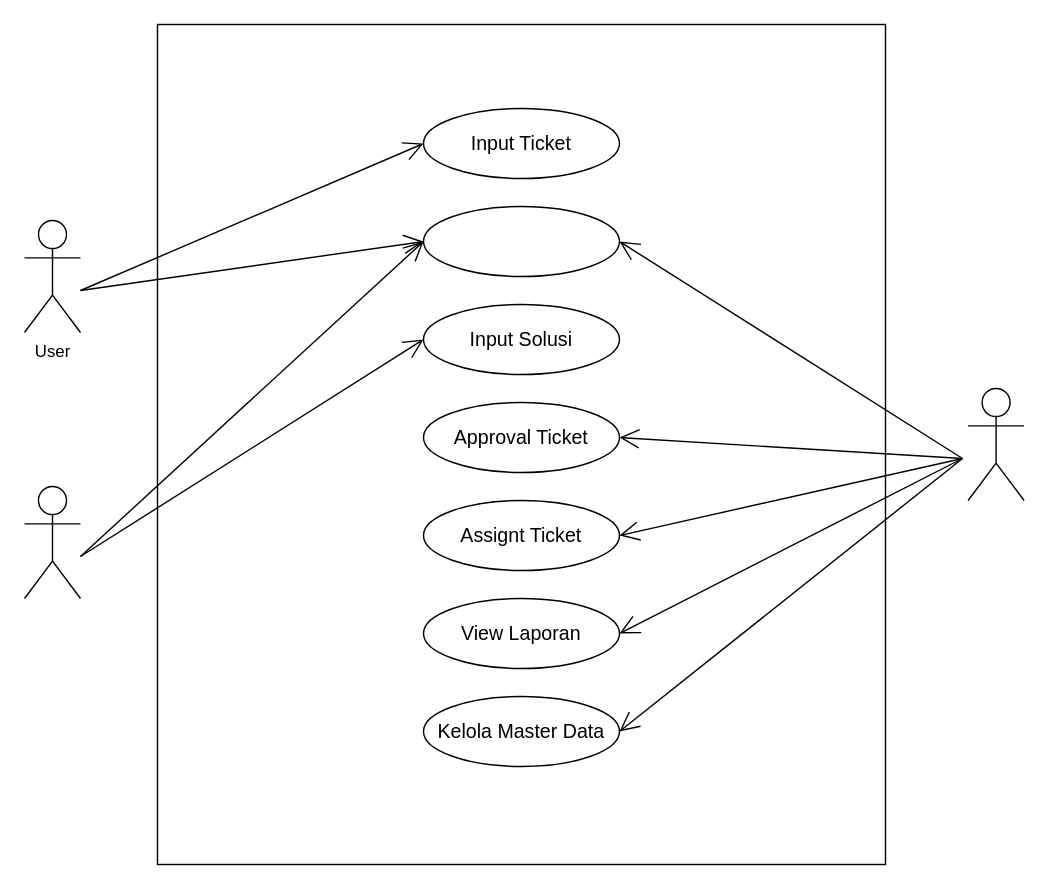
Image size: 1049x889. Some labels were removed from this diagram. Here are the shapes that lost their labels. From the top down, the centre of each, then its label:
At (x=521, y=240): "Login".
At (x=995, y=443): "SPV IT".
At (x=51, y=541): "Staff IT".
